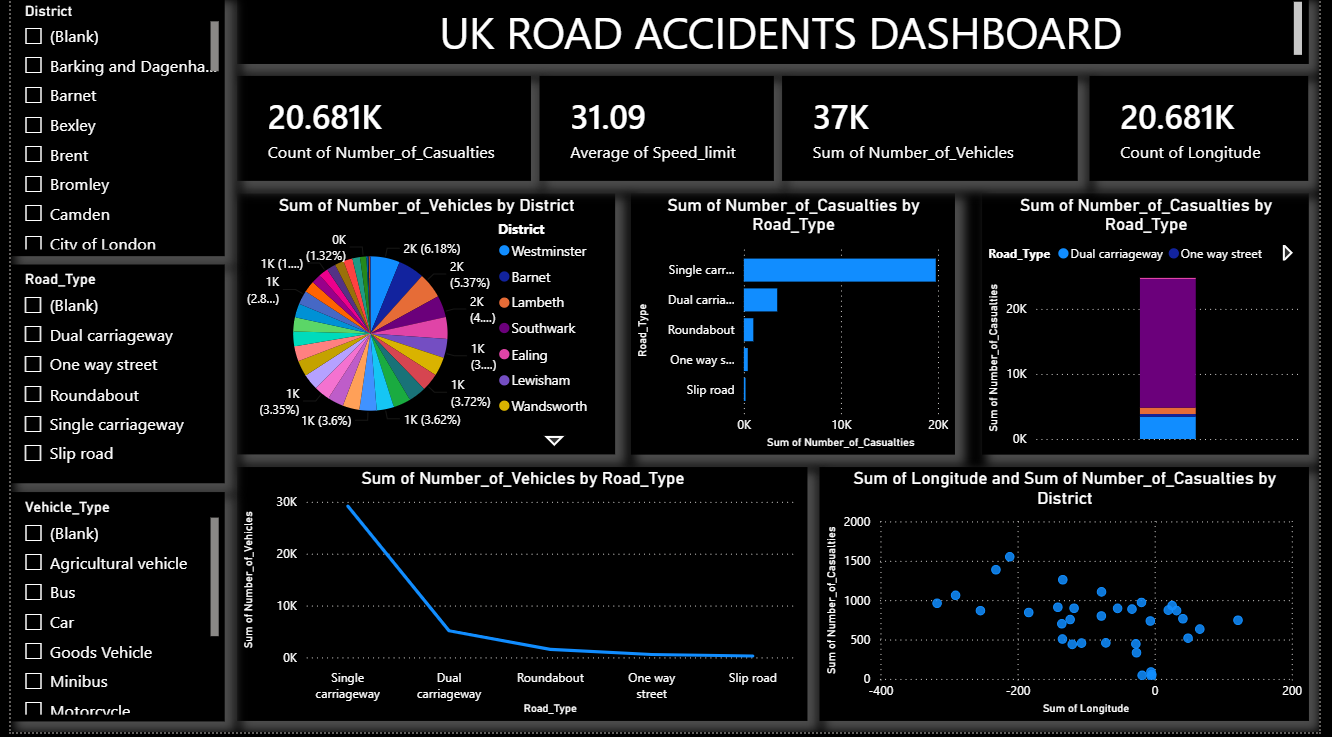

The page's visual inventory and layout, read from the dashboard file:
{"tool":"powerbi","page":{"name":"Page 5","canvas":[1280,720],"ordinal":4},"visuals":[{"type":"textbox","box":[221.3,0,1048,66],"z":0},{"type":"pieChart","fields":{"Category":["UK_Road_Accidents.District"],"Y":["Sum(UK_Road_Accidents.Number_of_Vehicles)"]},"box":[221.3,193.2,369.3,255.6],"z":1000},{"type":"clusteredBarChart","fields":{"Y":["Sum(UK_Road_Accidents.Number_of_Casualties)"],"Category":["UK_Road_Accidents.Road_Type"]},"box":[606.5,193.2,316.7,255.6],"z":2000},{"type":"columnChart","fields":{"Series":["UK_Road_Accidents.Road_Type"],"Y":["Sum(UK_Road_Accidents.Number_of_Casualties)"]},"box":[950.1,193.2,319.2,255.6],"z":3000},{"type":"lineChart","fields":{"Y":["Sum(UK_Road_Accidents.Number_of_Vehicles)"],"Category":["UK_Road_Accidents.Road_Type"]},"box":[221.3,461,557.6,248.2],"z":4000},{"type":"scatterChart","fields":{"X":["Sum(UK_Road_Accidents.Longitude)"],"Category":["UK_Road_Accidents.District"],"Y":["Sum(UK_Road_Accidents.Number_of_Casualties)"]},"box":[791.2,461,478.1,248.2],"z":5000},{"type":"cardVisual","fields":{"Data":["CountNonNull(UK_Road_Accidents.Number_of_Casualties)"]},"box":[221.3,78.3,287.4,102.7],"z":6000},{"type":"cardVisual","fields":{"Data":["Avg(UK_Road_Accidents.Speed_limit)"]},"box":[517.3,78.3,228.7,102.7],"z":7000},{"type":"cardVisual","fields":{"Data":["Sum(UK_Road_Accidents.Number_of_Vehicles)"]},"box":[754.5,78.3,288.6,102.7],"z":8000},{"type":"cardVisual","fields":{"Data":["CountNonNull(UK_Road_Accidents.Longitude)"]},"box":[1055.3,78.3,214,102.7],"z":9000},{"type":"slicer","fields":{"Values":["UK_Road_Accidents.District"]},"box":[0,0,209.1,254.3],"z":10000},{"type":"slicer","fields":{"Values":["UK_Road_Accidents.Road_Type"]},"box":[0,262.9,209.1,214],"z":11000},{"type":"slicer","fields":{"Values":["UK_Road_Accidents.Vehicle_Type"]},"box":[0,485.5,209.1,223.8],"z":12000}]}

Visuals, with their boxes in screenshot pixels (x1, y1, x2, y2), scaled from the page's 1280x720 canvas onto the 1332x737 screenshot:
textbox: {"x1": 230, "y1": 0, "x2": 1321, "y2": 68}
pieChart - UK_Road_Accidents.District x Sum(UK_Road_Accidents.Number_of_Vehicles): {"x1": 230, "y1": 198, "x2": 615, "y2": 459}
clusteredBarChart - Sum(UK_Road_Accidents.Number_of_Casualties) x UK_Road_Accidents.Road_Type: {"x1": 631, "y1": 198, "x2": 961, "y2": 459}
columnChart - UK_Road_Accidents.Road_Type x Sum(UK_Road_Accidents.Number_of_Casualties): {"x1": 989, "y1": 198, "x2": 1321, "y2": 459}
lineChart - Sum(UK_Road_Accidents.Number_of_Vehicles) x UK_Road_Accidents.Road_Type: {"x1": 230, "y1": 472, "x2": 811, "y2": 726}
scatterChart - Sum(UK_Road_Accidents.Longitude) x UK_Road_Accidents.District: {"x1": 823, "y1": 472, "x2": 1321, "y2": 726}
cardVisual - CountNonNull(UK_Road_Accidents.Number_of_Casualties): {"x1": 230, "y1": 80, "x2": 529, "y2": 185}
cardVisual - Avg(UK_Road_Accidents.Speed_limit): {"x1": 538, "y1": 80, "x2": 776, "y2": 185}
cardVisual - Sum(UK_Road_Accidents.Number_of_Vehicles): {"x1": 785, "y1": 80, "x2": 1085, "y2": 185}
cardVisual - CountNonNull(UK_Road_Accidents.Longitude): {"x1": 1098, "y1": 80, "x2": 1321, "y2": 185}
slicer - UK_Road_Accidents.District: {"x1": 0, "y1": 0, "x2": 218, "y2": 260}
slicer - UK_Road_Accidents.Road_Type: {"x1": 0, "y1": 269, "x2": 218, "y2": 488}
slicer - UK_Road_Accidents.Vehicle_Type: {"x1": 0, "y1": 497, "x2": 218, "y2": 726}
